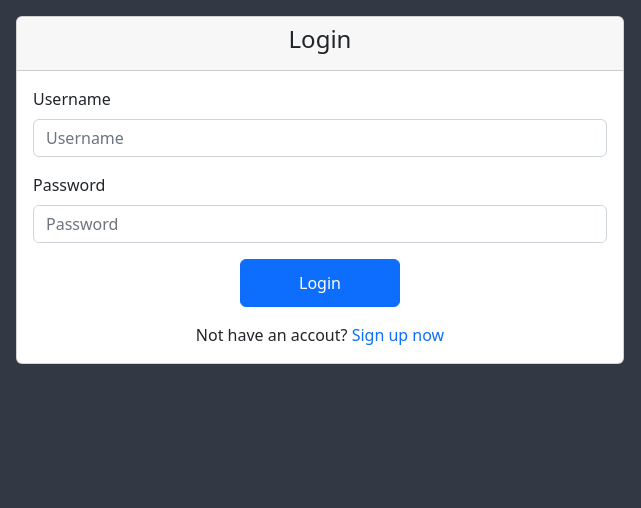
Test: Login page test › Alert error if both username and password are empty
Click the button "Login": (320, 283) [240,259,400,307]
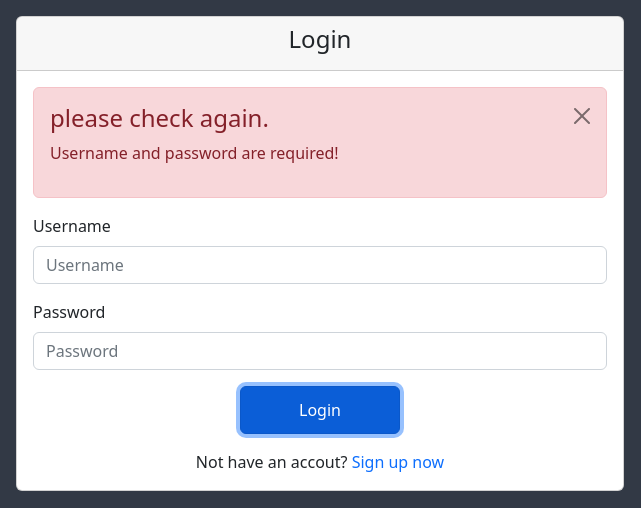
Check: the text "Username and password are required!" is shown, box [50,142,339,164]
